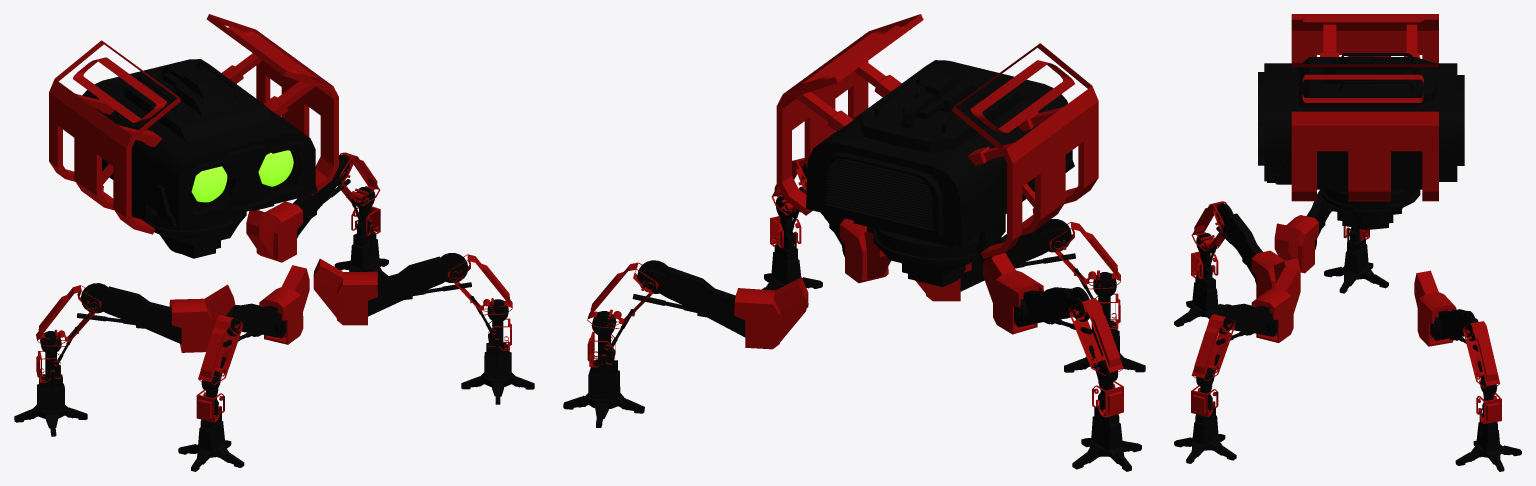
The model's file is robo1.glb.
3 renders of one model, left to right at view 1: azimuth 30°, elevation 25°; view 2: azimuth 150°, elevation 25°; view 3: azimuth 270°, elevation 25°, orthographic. The views are drawn at different scales.
Parts seen in each view (by area): view 1: Line024, Box001, Line002, Line020, Line003, Cylinder001, Cylinder005, Cylinder002, Line009, Cylinder004, Line019, Cylinder003 (+10 smaller); view 2: Box001, Line024, Cylinder001, Line009, Line010, Cylinder003, Cylinder005, Line019, Cylinder002, Line020, Line015, Line002 (+7 smaller); view 3: Line024, Box001, Cylinder001, Cylinder002, Cylinder003, Cylinder004, Line002, Line019, Cylinder005, Line009, Line003, Line004 (+9 smaller).
Boxes of the visible parts, left/top/right/bottom form: Line024: left=49, top=14, right=338, bottom=234; Box001: left=82, top=59, right=317, bottom=227; Line002: left=313, top=258, right=377, bottom=325; Line020: left=81, top=283, right=181, bottom=344; Line003: left=368, top=253, right=468, bottom=316; Cylinder001: left=131, top=194, right=246, bottom=258; Cylinder005: left=14, top=331, right=87, bottom=436; Cylinder002: left=461, top=299, right=534, bottom=404; Line009: left=246, top=201, right=303, bottom=262; Cylinder004: left=178, top=371, right=244, bottom=471; Line019: left=169, top=284, right=235, bottom=352; Cylinder003: left=334, top=187, right=388, bottom=278; Box001: left=806, top=60, right=1074, bottom=247; Line024: left=776, top=14, right=1098, bottom=258; Cylinder001: left=867, top=215, right=1005, bottom=287; Line009: left=734, top=277, right=808, bottom=349; Line010: left=637, top=260, right=745, bottom=337; Cylinder003: left=563, top=311, right=644, bottom=427; Cylinder005: left=1072, top=360, right=1141, bottom=471; Line019: left=983, top=253, right=1043, bottom=334; Cylinder002: left=762, top=196, right=822, bottom=307; Line020: left=1014, top=287, right=1089, bottom=327; Line015: left=960, top=219, right=1071, bottom=291; Line002: left=839, top=218, right=890, bottom=283; Line024: left=1291, top=14, right=1438, bottom=201; Box001: left=1264, top=57, right=1464, bottom=191; Cylinder001: left=1320, top=189, right=1420, bottom=229; Cylinder002: left=1174, top=367, right=1236, bottom=463; Cylinder003: left=1455, top=375, right=1521, bottom=471; Cylinder004: left=1174, top=233, right=1224, bottom=326; Line002: left=1251, top=267, right=1300, bottom=342; Line019: left=1274, top=215, right=1318, bottom=273; Cylinder005: left=1324, top=226, right=1388, bottom=293; Line009: left=1414, top=270, right=1456, bottom=346; Line003: left=1218, top=303, right=1277, bottom=337; Line004: left=1191, top=314, right=1235, bottom=381.
Bounding box in the file's own units: 0.8262 × 0.5826 × 0.5899.
